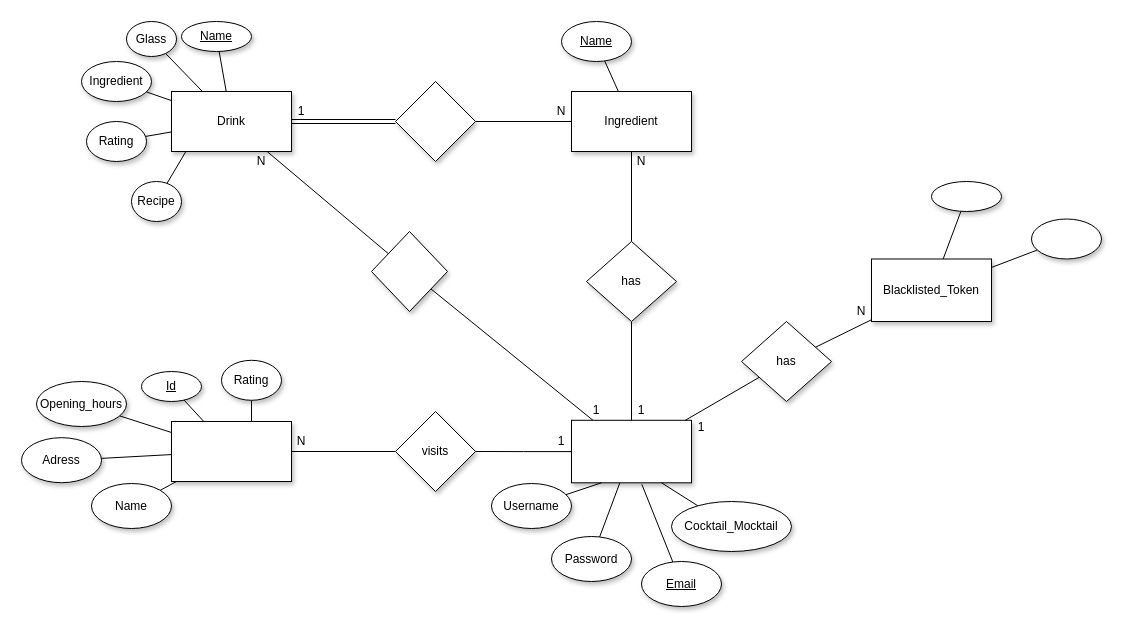
Image size: 1125x631. Some labels were removed from this diagram. Here are the shapes that lost their labels. From the top down, the centre of each, then its label:
pixel 436 122: contains
pixel 967 197: Date
pixel 1067 240: Token
pixel 410 272: reviews
pixel 232 452: Bar
pixel 632 452: User
